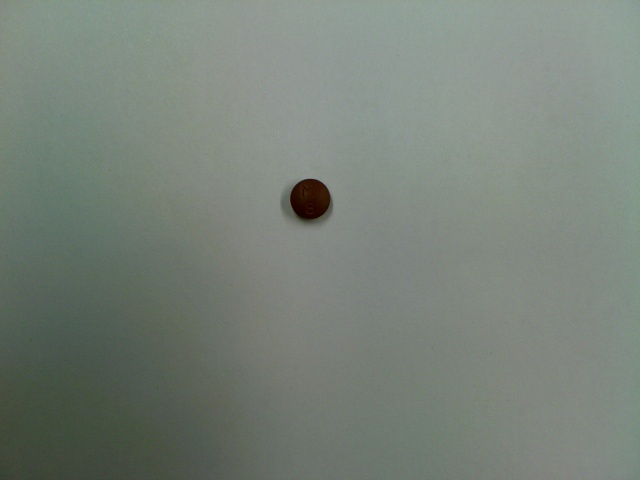8: (306, 202, 316, 216)
M: (301, 185, 316, 199)
